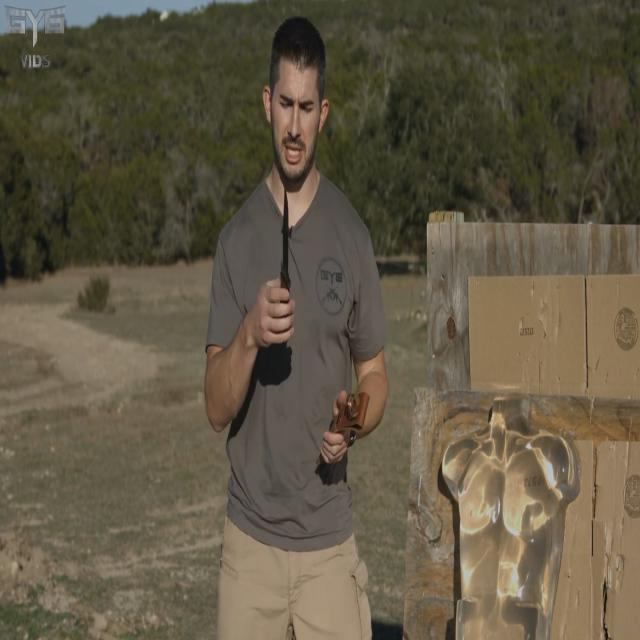knife: (283, 189, 292, 291)
